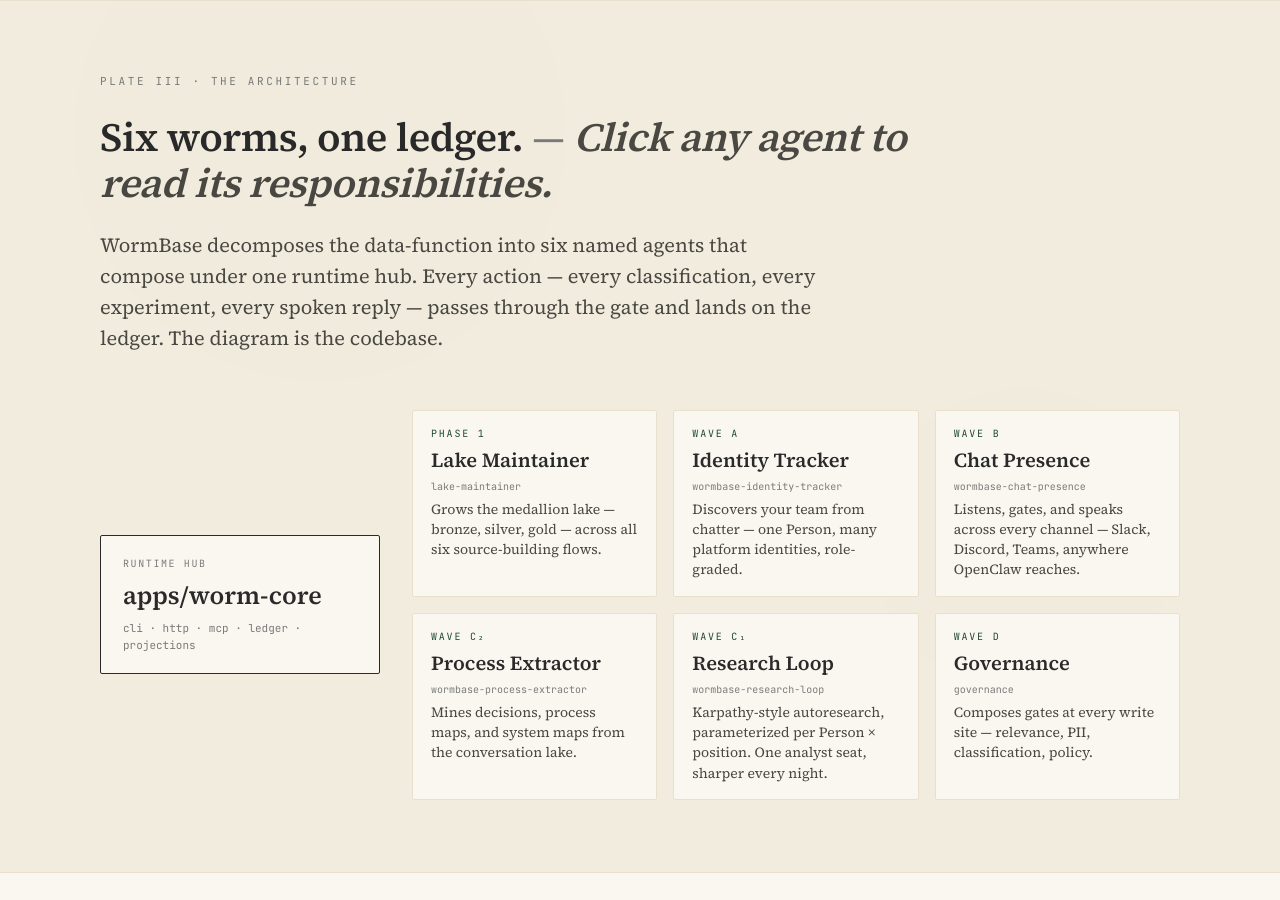
Scenario: ArchitectureDiagram (clickable 6-agent pitch) › modal closes when the close control is activated
Click the button with test id "agent-node-research" at (796, 706), box [673,613,919,800]
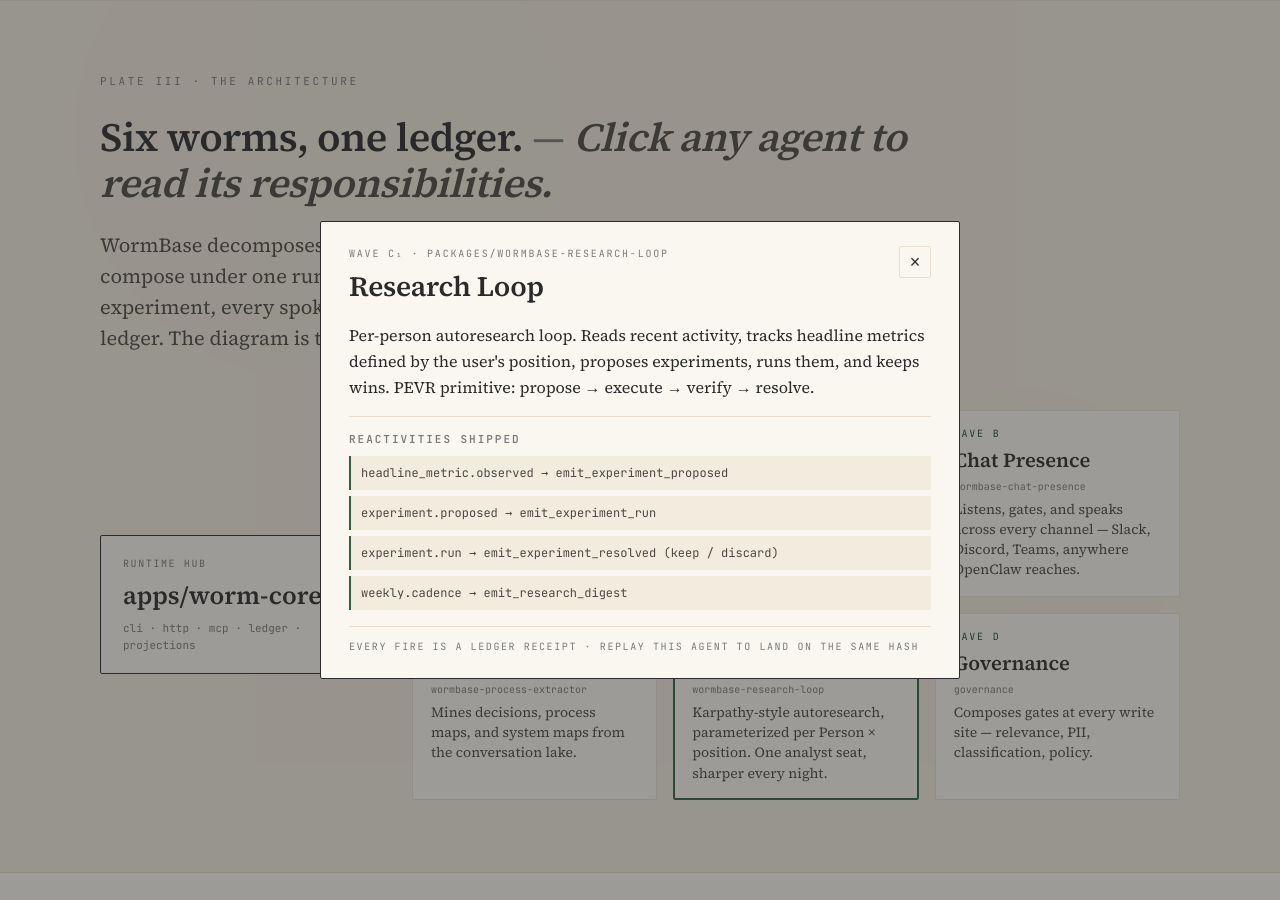
Check: the dialog with test id "agent-modal" is shown
Click the button with test id "agent-modal-close" at (915, 262), box [899,246,931,278]
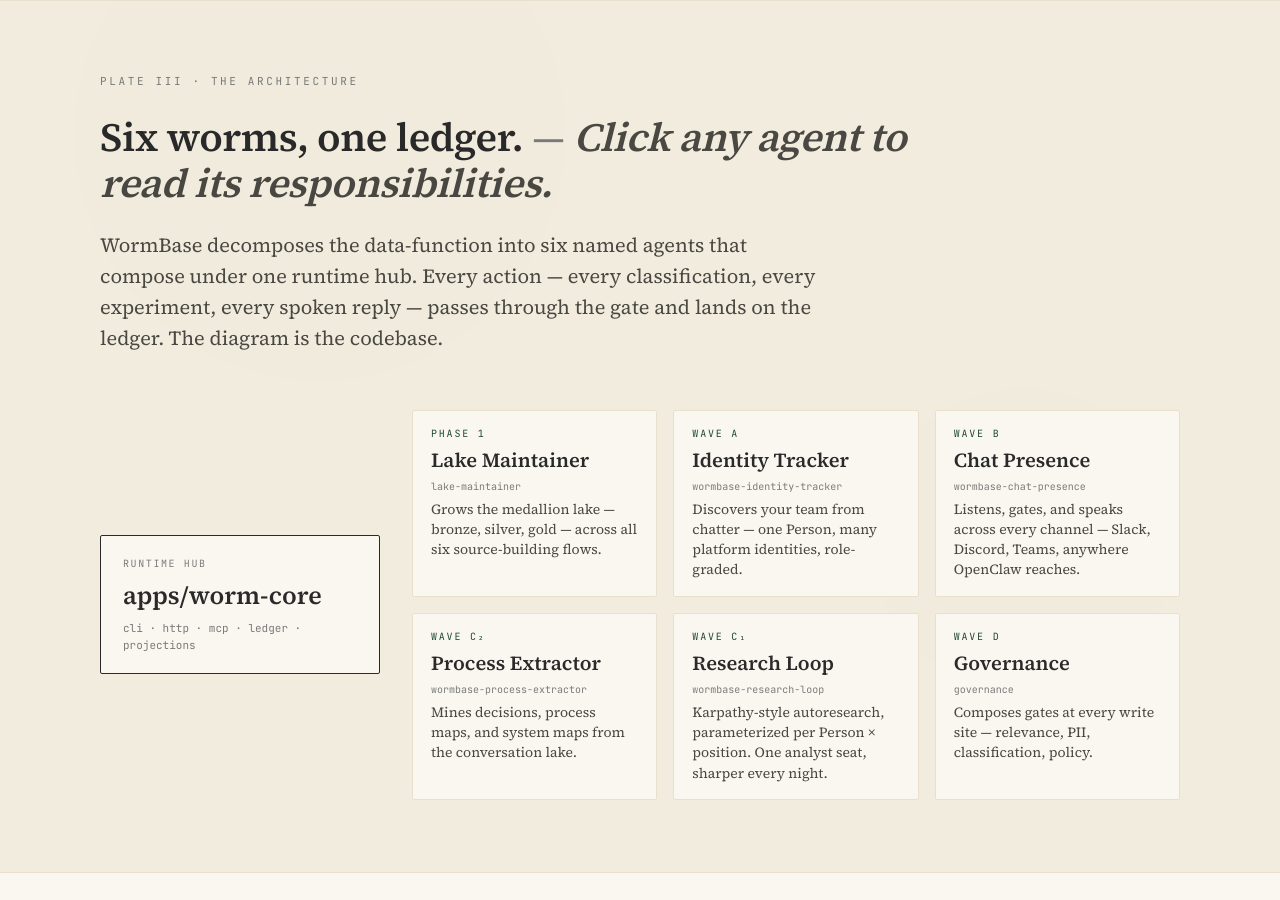
Check: the dialog with test id "agent-modal" is gone
